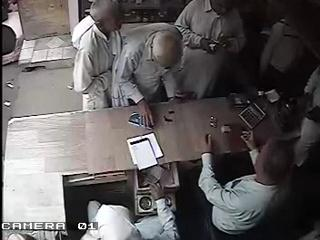Normal: (198, 132, 298, 240), (111, 23, 184, 128), (172, 0, 248, 100), (80, 173, 180, 240)
shoplifting: (71, 0, 125, 111)
